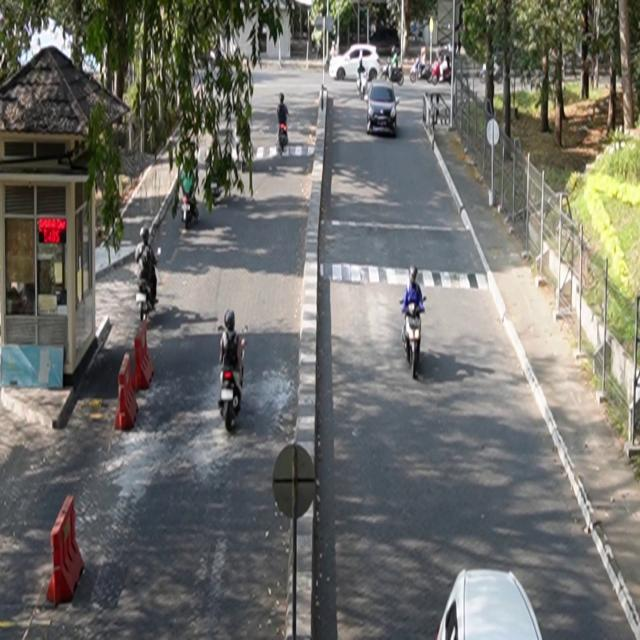car: (437, 569, 544, 640), (330, 44, 381, 82), (366, 82, 401, 137)
